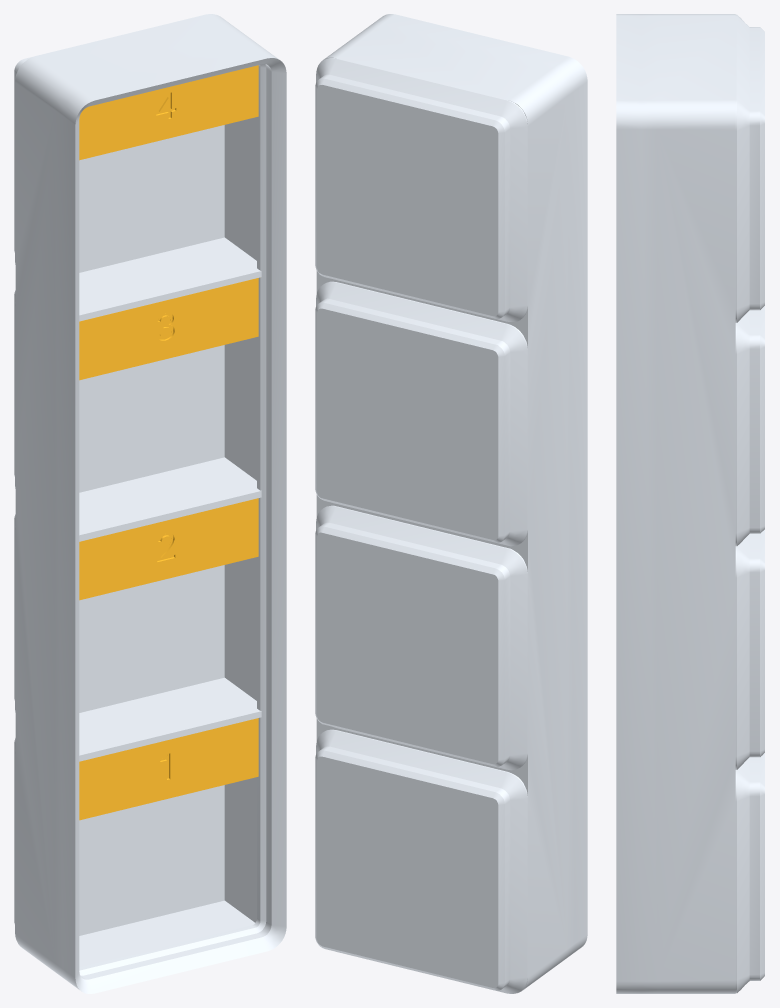
File: hero-engraved-tray.glb
3 renders of one model, left to right at view 1: azimuth 30°, elevation 25°; view 2: azimuth 150°, elevation 25°; view 3: azimuth 270°, elevation 25°, orthographic.
Size of the model in its own units: 41.49 by 168 by 25.38.
